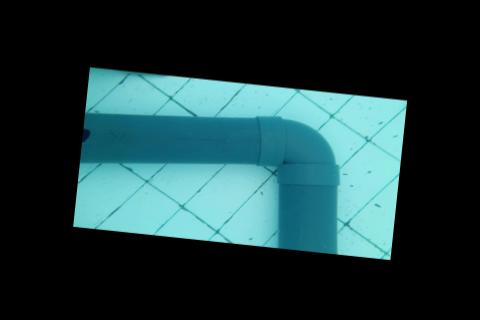kebocoran: (80, 128, 92, 145)
